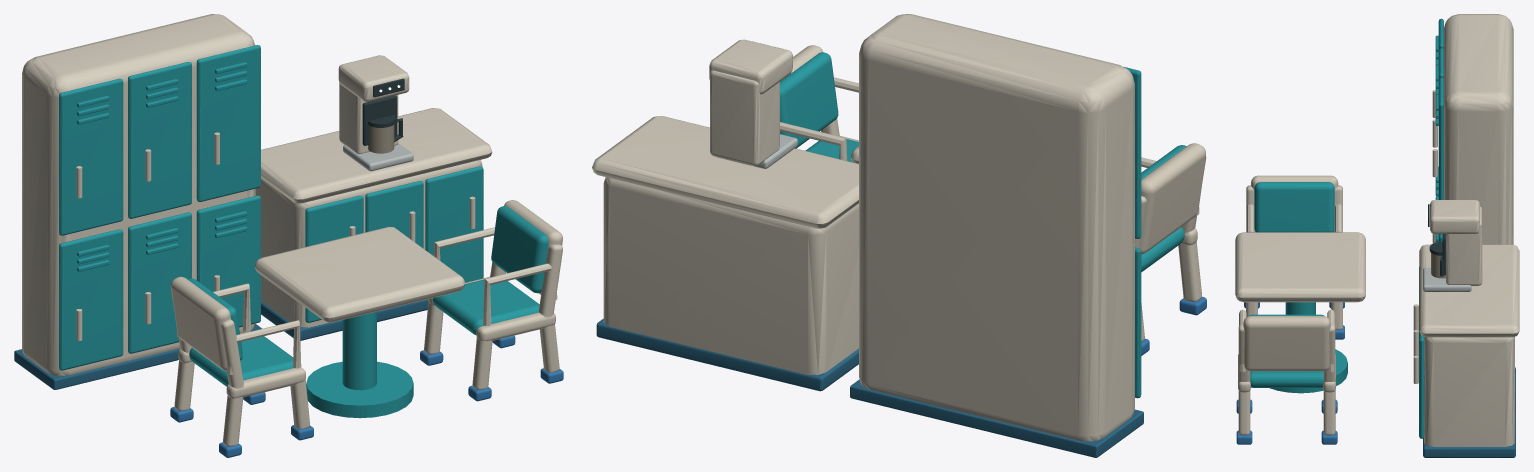
The model's file is 11_lounge_standard_assembly.glb.
3 renders of one model, left to right at view 1: azimuth 30°, elevation 25°; view 2: azimuth 150°, elevation 25°; view 3: azimuth 270°, elevation 25°, orthographic. The views are drawn at different scales.
Visible parts, largest first — view 1: 11_standard_lockers__Static, 11_standard_coffee_counter__Static, 11_standard_table__Static, 11_standard_chair_right__Static, 11_standard_chair_left__Static, 11_standard_coffee_machine__Static; view 2: 11_standard_lockers__Static, 11_standard_coffee_counter__Static, 11_standard_coffee_machine__Static, 11_standard_chair_left__Static, 11_standard_chair_right__Static; view 3: 11_standard_coffee_counter__Static, 11_standard_lockers__Static, 11_standard_table__Static, 11_standard_chair_right__Static, 11_standard_chair_left__Static, 11_standard_coffee_machine__Static.
Boxes of the visible parts, <box> form: 11_standard_lockers__Static: <box>14,14,261,389</box>; 11_standard_coffee_counter__Static: <box>255,108,492,340</box>; 11_standard_table__Static: <box>254,226,464,418</box>; 11_standard_chair_right__Static: <box>420,200,563,401</box>; 11_standard_chair_left__Static: <box>170,276,313,457</box>; 11_standard_coffee_machine__Static: <box>338,55,413,171</box>; 11_standard_lockers__Static: <box>850,14,1143,457</box>; 11_standard_coffee_counter__Static: <box>592,116,858,391</box>; 11_standard_coffee_machine__Static: <box>709,39,797,168</box>; 11_standard_chair_left__Static: <box>1135,143,1206,355</box>; 11_standard_chair_right__Static: <box>780,45,858,162</box>; 11_standard_coffee_counter__Static: <box>1413,244,1519,457</box>; 11_standard_lockers__Static: <box>1432,14,1513,244</box>; 11_standard_table__Static: <box>1235,232,1365,393</box>; 11_standard_chair_right__Static: <box>1236,309,1337,444</box>; 11_standard_chair_left__Static: <box>1244,175,1344,339</box>; 11_standard_coffee_machine__Static: <box>1423,200,1482,291</box>.
Bounding box in the file's own units: 2.86 × 1.95 × 1.87.
